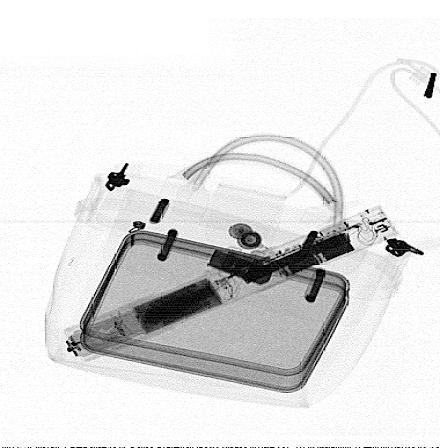Baton: (63, 204, 400, 366)
